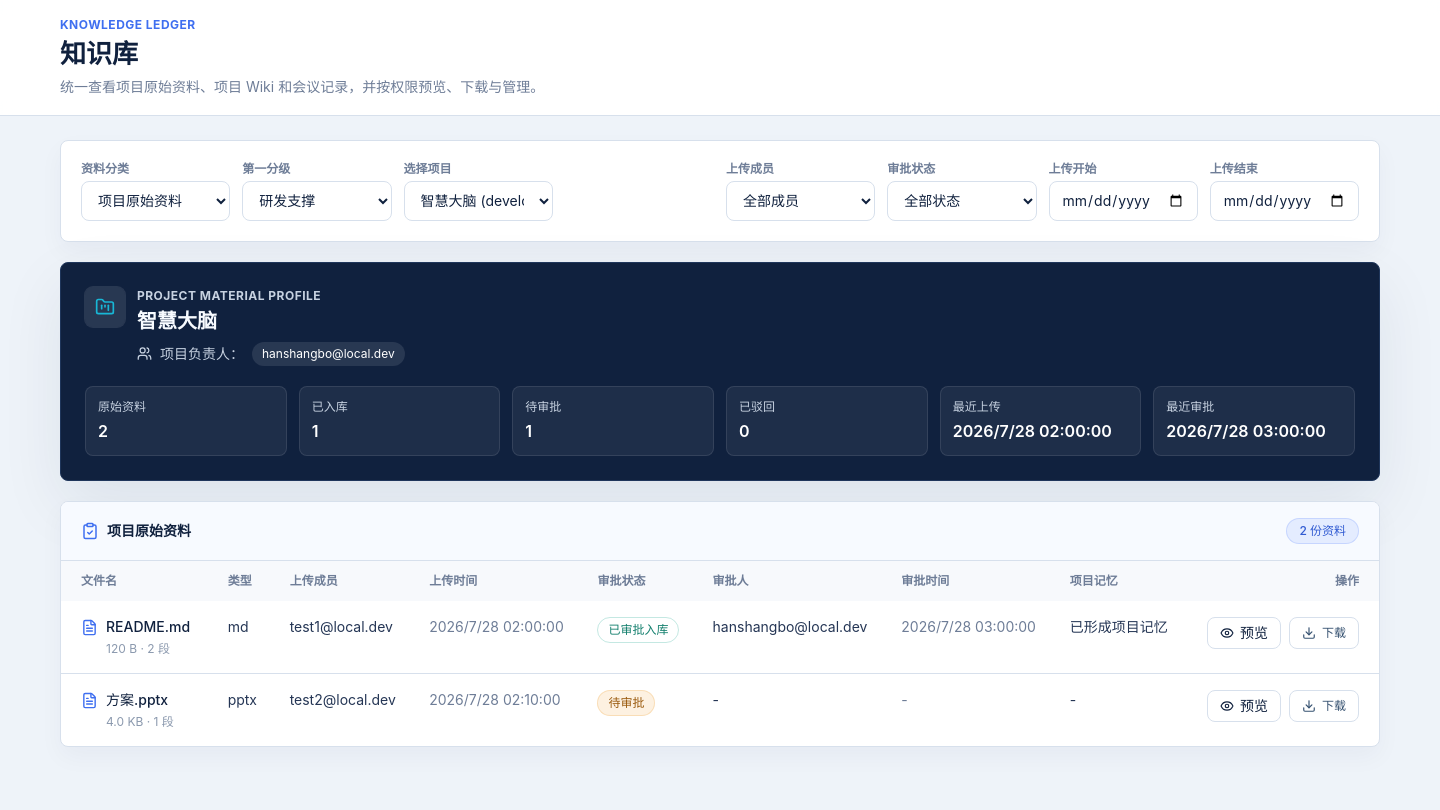
KnowledgePage › selects knowledge projects through the complete first-level hierarchy
Select "产业侧" in the dropdown labelled "第一分级". click: [317, 200]
box: [242,180,392,220]
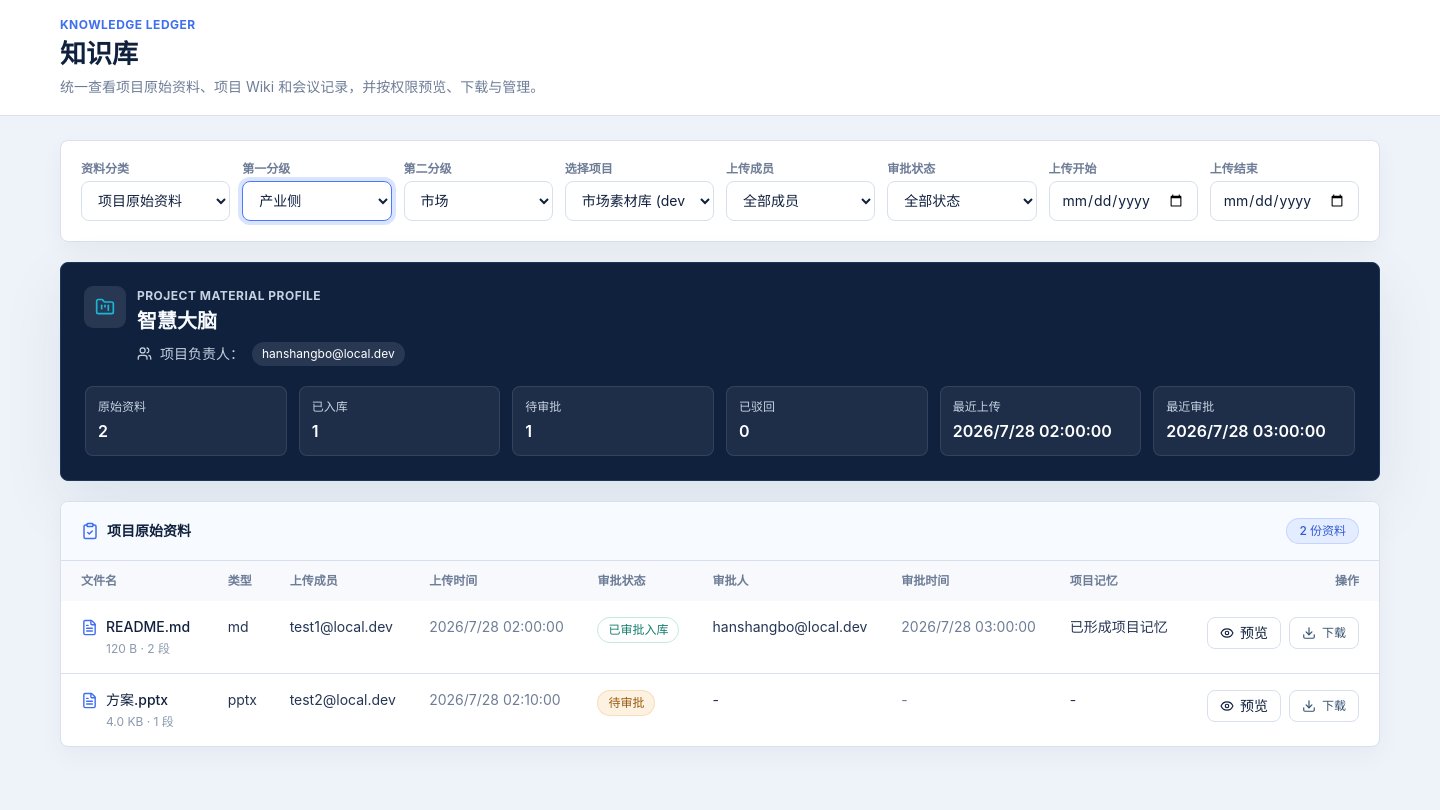
Check: the dropdown labelled "第二分级" shows "市场", box [404,180,553,220]
